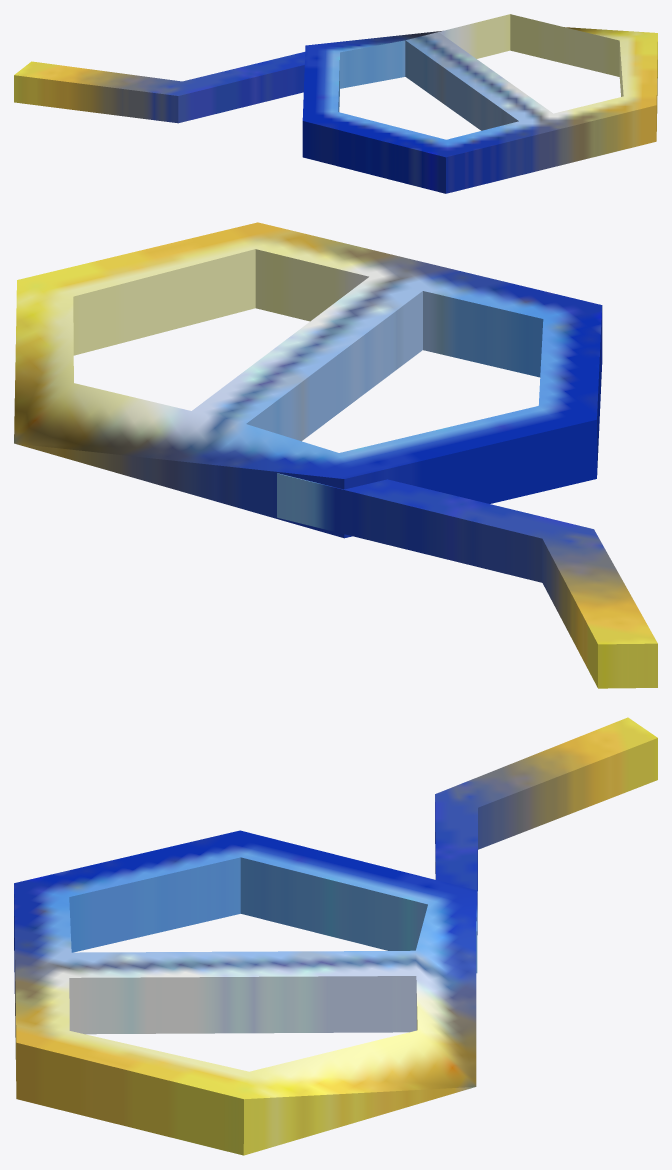
3 renders of one model, top to bottom at view 1: azimuth 30°, elevation 25°; view 2: azimuth 150°, elevation 25°; view 3: azimuth 270°, elevation 25°, orthographic. The views are drawn at different scales.
Visible parts, largest first — view 1: aw223; view 2: aw223; view 3: aw223.
Part boxes in pixels (x1=…): aw223: x1=14, y1=14, x2=657, y2=193; aw223: x1=14, y1=222, x2=657, y2=688; aw223: x1=14, y1=717, x2=657, y2=1155.
Size of the model in its own units: 13.91 by 0.934 by 9.66.
Materials: 1 (1 with a texture image).
